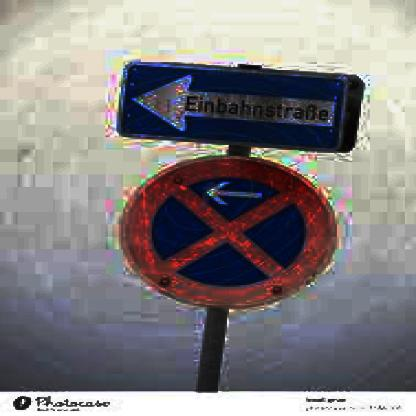No stopping: (110, 158, 330, 310)
